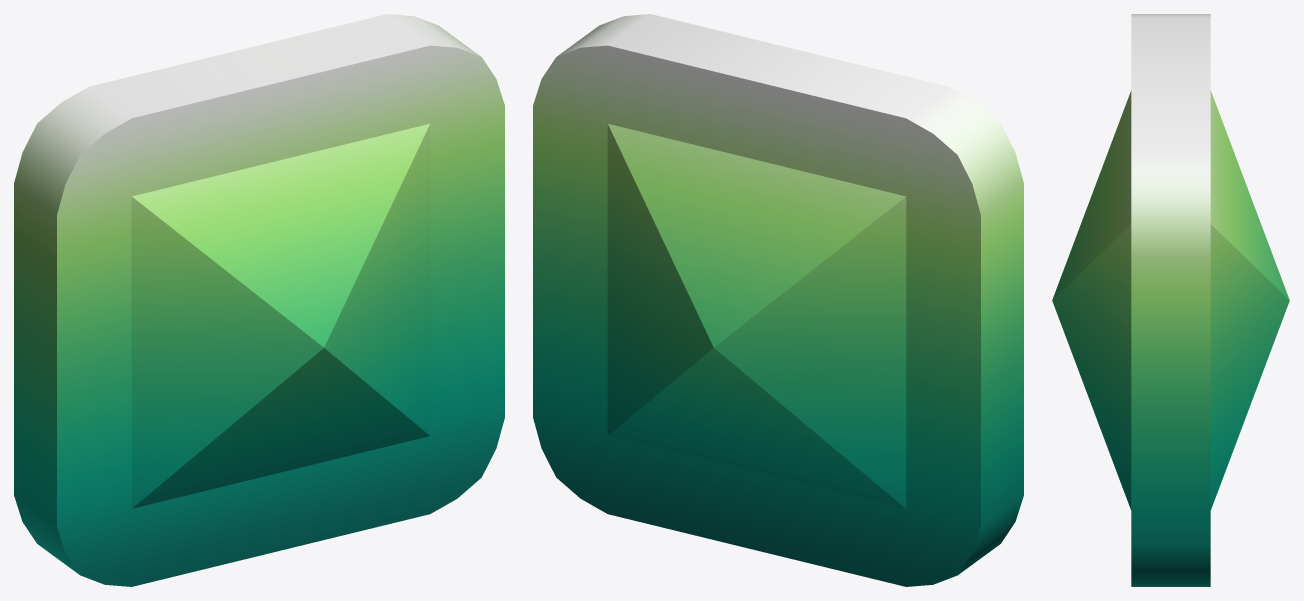
File: gems2.glb
3 views of the same model, side by side, from view 1: azimuth 30°, elevation 25°; view 2: azimuth 150°, elevation 25°; view 3: azimuth 270°, elevation 25° (orthographic). The views are drawn at different scales.
Parts seen in each view (by area): view 1: Gem3; view 2: Gem3; view 3: Gem3.
Boxes of the visible parts, left/top/right/bottom form: Gem3: left=14, top=14, right=504, bottom=586; Gem3: left=533, top=14, right=1023, bottom=586; Gem3: left=1052, top=14, right=1289, bottom=586.
Size of the model in its own units: 1 by 1 by 0.5.
1 material, 1 textured.
